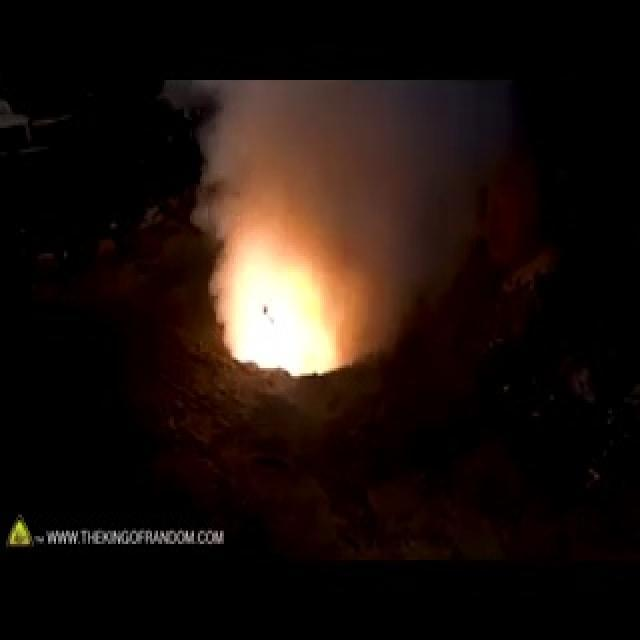fire: (200, 140, 412, 450)
